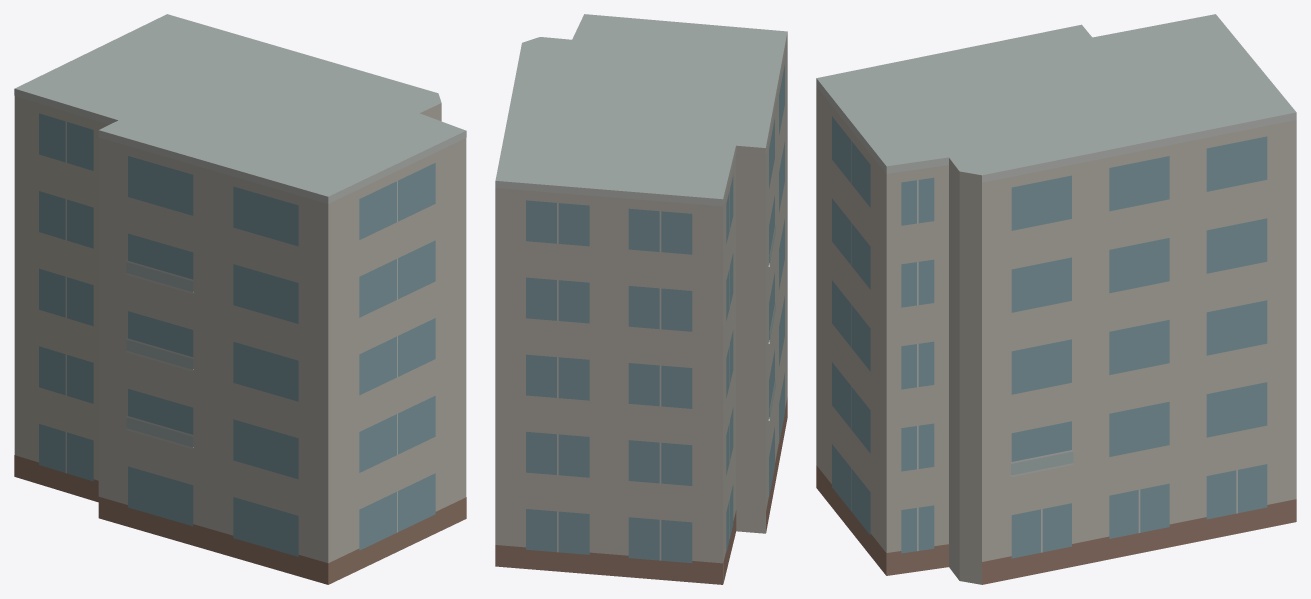
File: survey-upis-32935989.glb
3 renders of one model, left to right at view 1: azimuth 30°, elevation 25°; view 2: azimuth 150°, elevation 25°; view 3: azimuth 270°, elevation 25°, orthographic. The views are drawn at different scales.
Visible parts, largest first — view 1: survey-upis-32935989.tmp; view 2: survey-upis-32935989.tmp; view 3: survey-upis-32935989.tmp.
Boxes of the visible parts, left/top/right/bottom form: survey-upis-32935989.tmp: left=14, top=14, right=466, bottom=584; survey-upis-32935989.tmp: left=495, top=14, right=787, bottom=584; survey-upis-32935989.tmp: left=816, top=14, right=1296, bottom=584.
Bounding box in the file's own units: 11.16 × 13.2 × 14.04.
